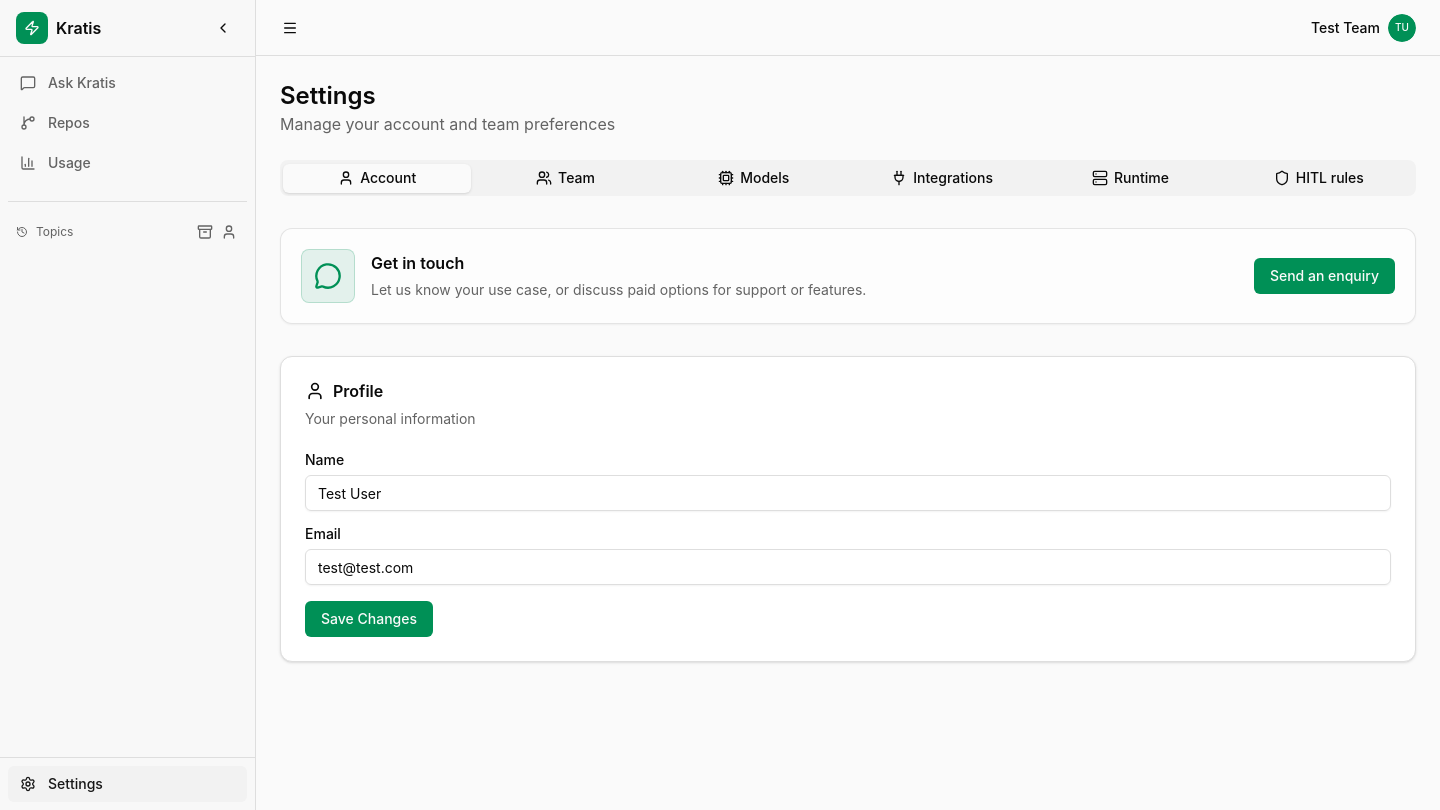
Layout Flow › opens user dropdown menu and shows user info
The image size is (1440, 810).
expect the text "Test Team" is shown: met, box [1311, 18, 1380, 38]
# Click the user menu trigger button (shows team name)
Click the button "Test Team TU". click: click(1363, 28)
box: [1303, 10, 1424, 46]
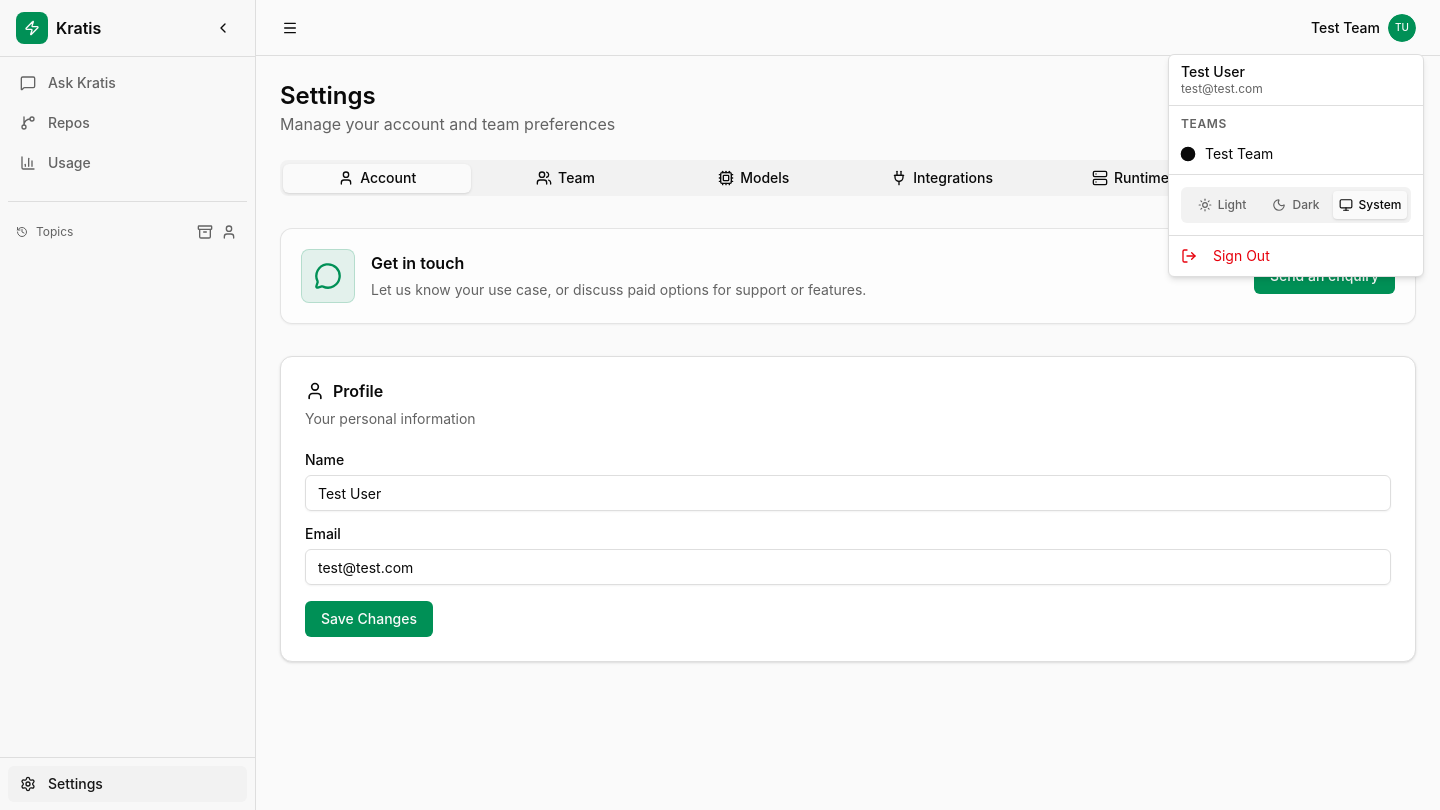
expect the text "Test User" is shown: met, box [1181, 63, 1245, 80]
expect the text "test@test.com" is shown: met, box [1181, 81, 1263, 96]
expect the text "Sign Out" is shown: met, box [1213, 246, 1270, 266]
